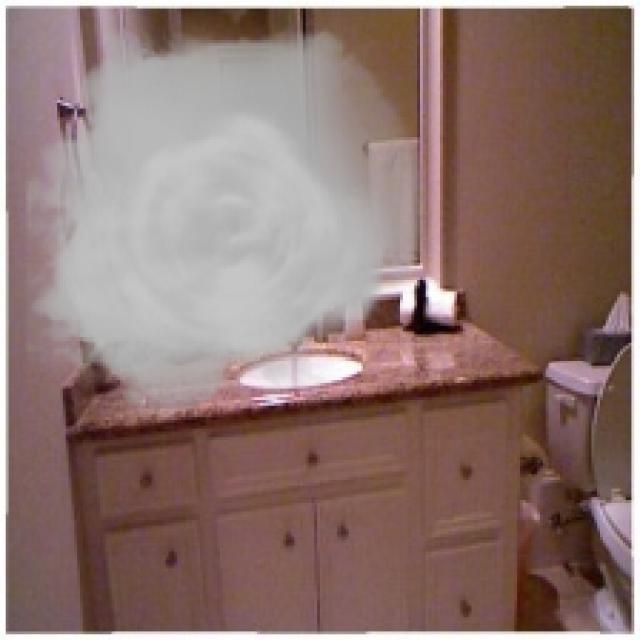smoke: (26, 9, 426, 428)
